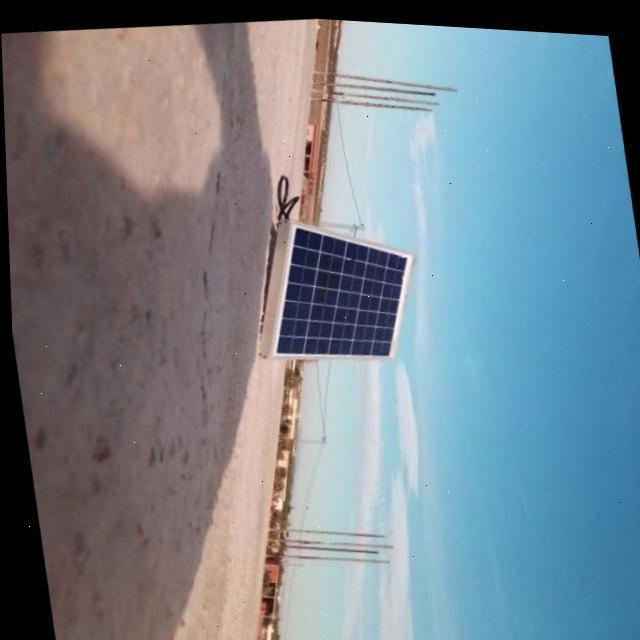Normal Solar Panel: (246, 202, 428, 368)
